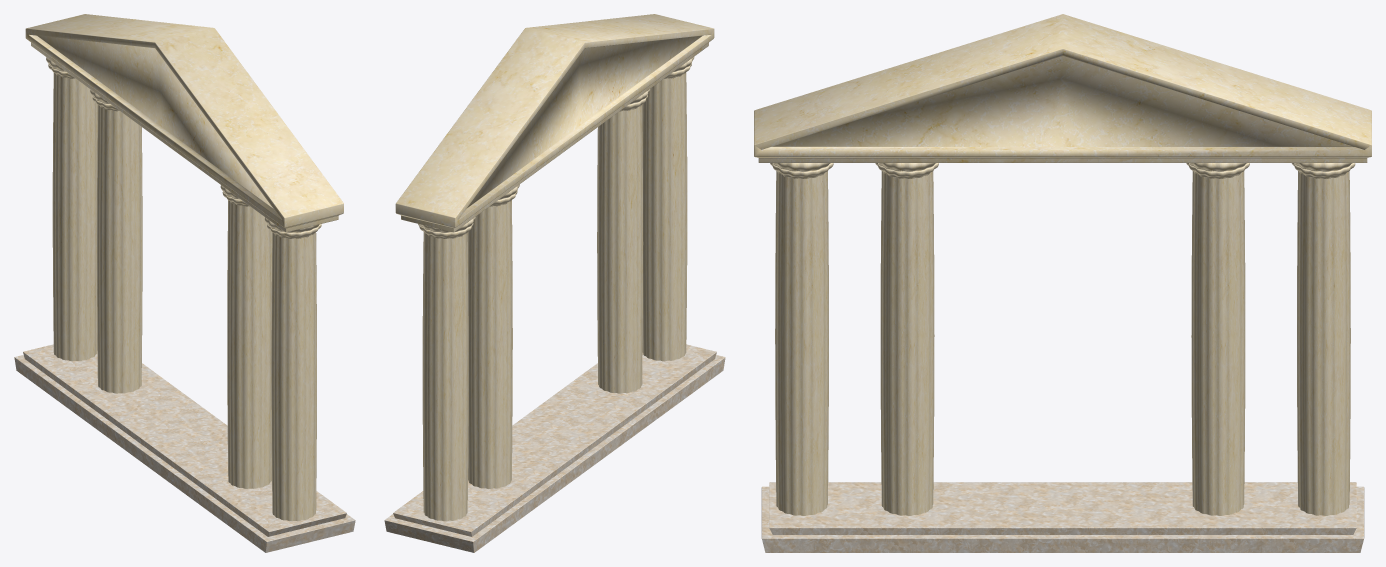
File: BPillarsblend.fbx
3 renders of one model, left to right at view 1: azimuth 30°, elevation 25°; view 2: azimuth 150°, elevation 25°; view 3: azimuth 270°, elevation 25°, orthographic. The views are drawn at different scales.
Visible parts, largest first — view 1: Cube.001; view 2: Cube.001; view 3: Cube.001.
Part boxes in pixels (x1=…): Cube.001: x1=14, y1=14, x2=355, y2=552; Cube.001: x1=384, y1=14, x2=725, y2=552; Cube.001: x1=754, y1=14, x2=1371, y2=552.
Bounding box in the file's own units: 230 × 1029 × 1162.
2 materials, 2 textured.
